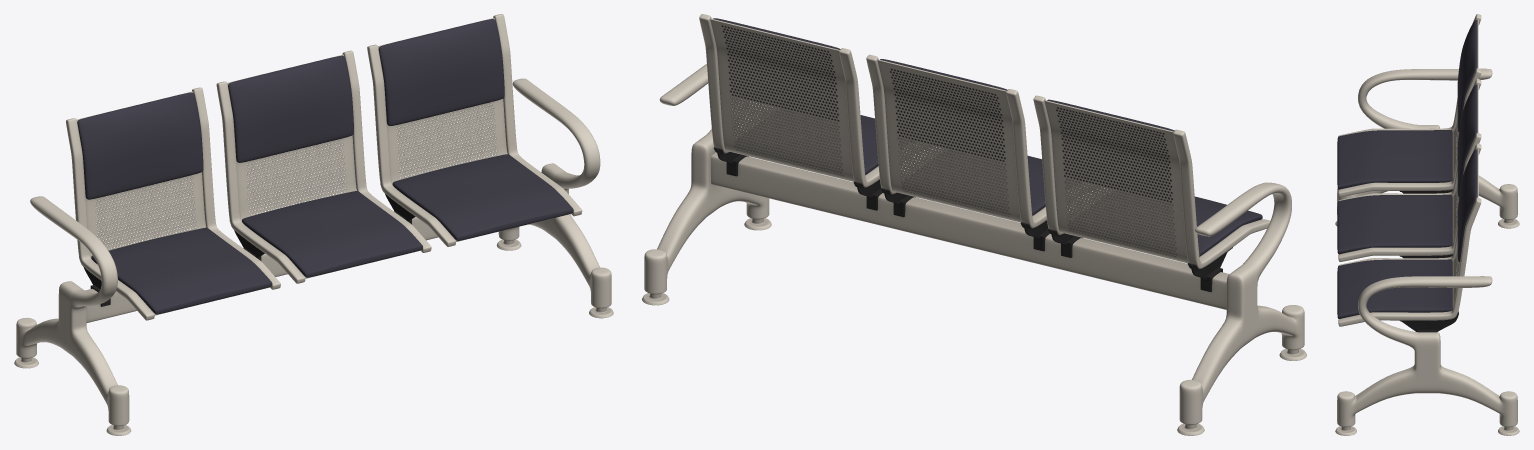
The model's file is bk_waiting_bench.glb.
3 renders of one model, left to right at view 1: azimuth 30°, elevation 25°; view 2: azimuth 150°, elevation 25°; view 3: azimuth 270°, elevation 25°, orthographic. The views are drawn at different scales.
Visible parts, largest first — view 1: Waiting Bench Chair; view 2: Waiting Bench Chair; view 3: Waiting Bench Chair.
Boxes of the visible parts, x1,y1,x2,y2 form: Waiting Bench Chair: (14,14,613,435); Waiting Bench Chair: (642,14,1306,435); Waiting Bench Chair: (1335,14,1519,435).
Bounding box in the file's own units: 1.87 × 0.8878 × 0.6722.
Materials: 2 (2 with a texture image).
